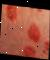plaque psoriasis: (24, 24, 39, 43), (20, 42, 34, 58), (3, 4, 16, 19), (40, 38, 50, 51), (47, 9, 50, 32)
